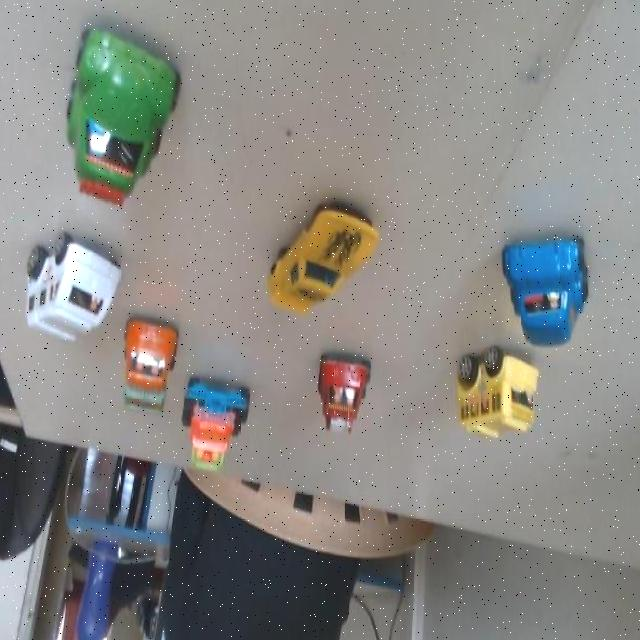car: (0, 0, 216, 229), (0, 194, 144, 380), (233, 178, 399, 329), (494, 220, 595, 352), (442, 333, 532, 438), (177, 377, 264, 485), (111, 303, 184, 429), (307, 342, 373, 437)
